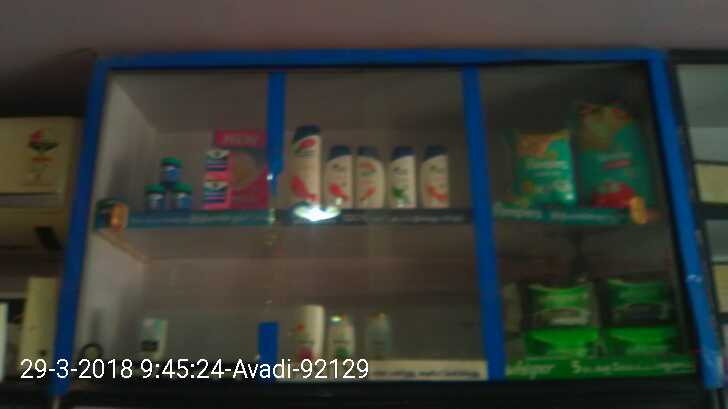vicks: (145, 148, 234, 209)
